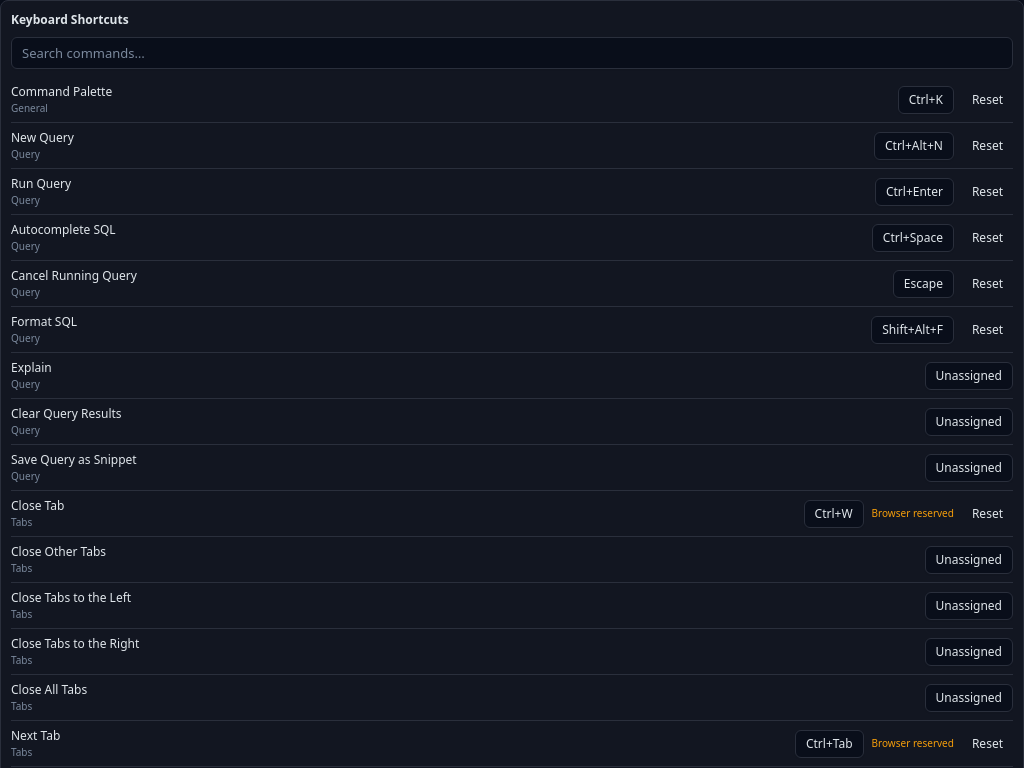
Test: KeyboardShortcutsPanel › records a key and sends the complete override payload
The image size is (1024, 768).
Click the button "Ctrl+Enter" at (914, 192), box [875,178,954,206]
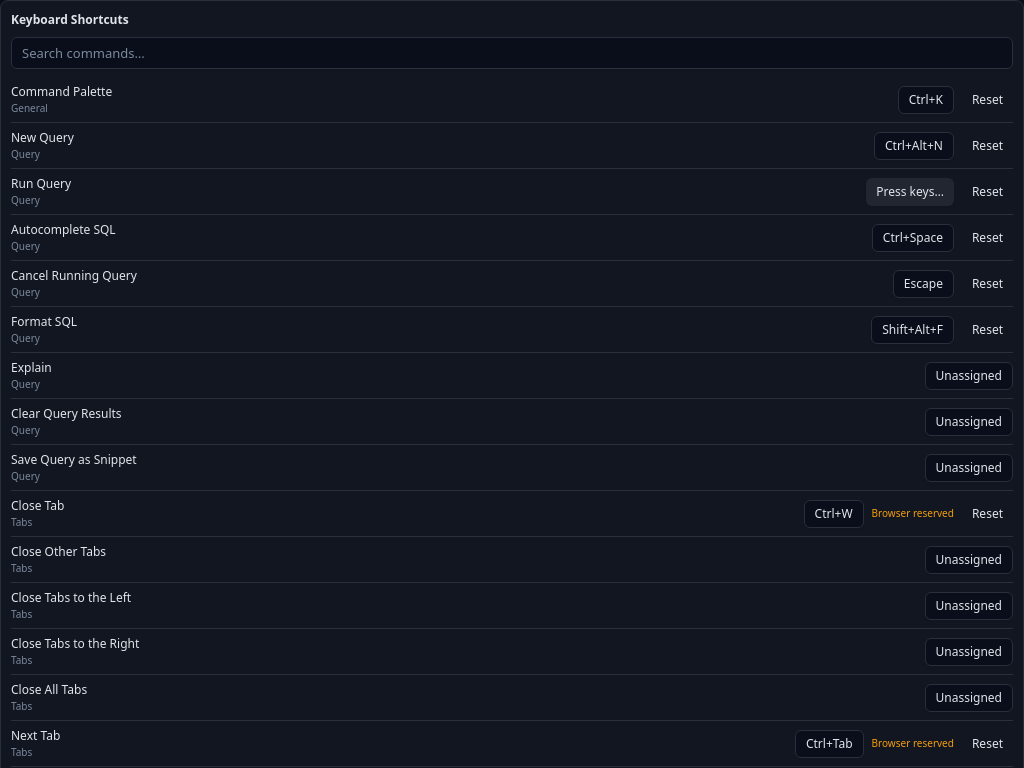
Press F9 in the button "Press keys…", box [866,178,954,206]
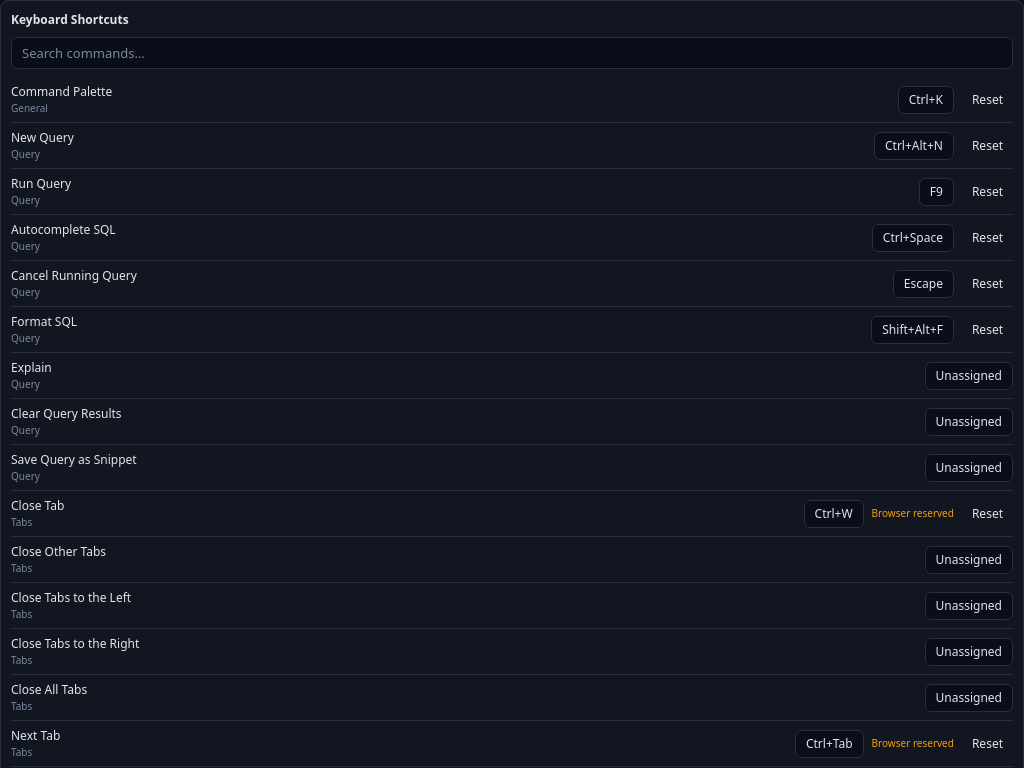
Expected: the button "F9" is shown, [919,178,954,206]
